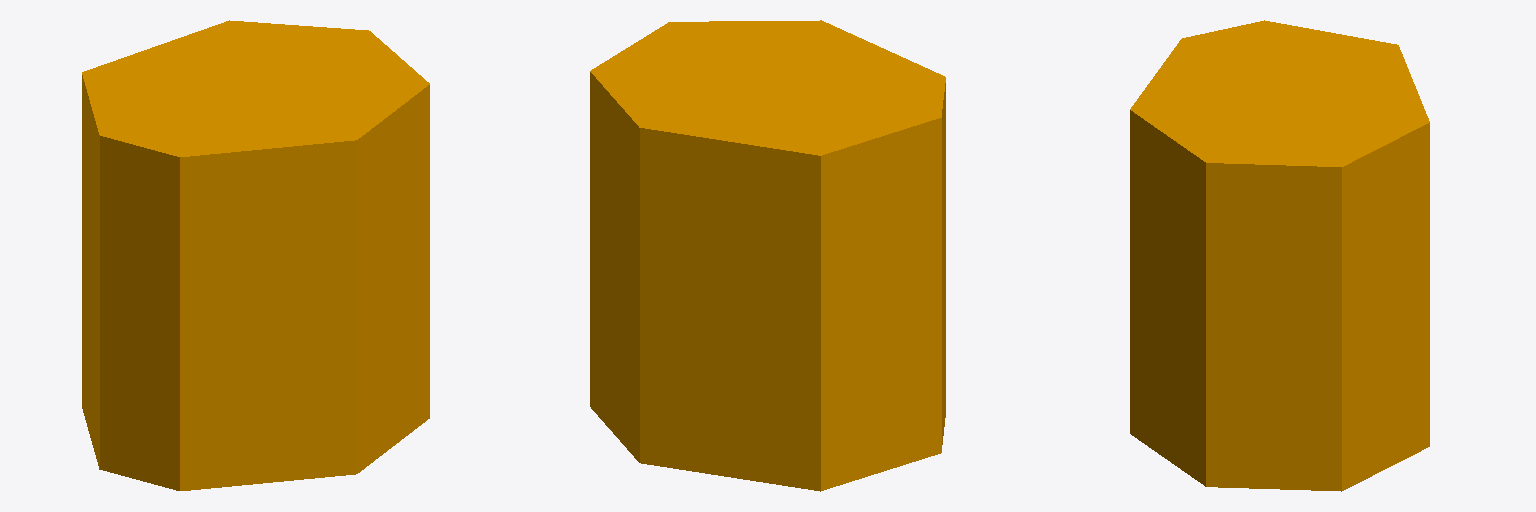
The robot description file, URDF, robot "object":
<?xml version="1.0"?>
<robot name="object">
  <link name="object">
    <visual>
      <origin xyz="0 0 0"/>
      <geometry>
        <mesh filename="meshes/generated/col_066.obj" scale="0.03 0.03 0.03"/>
      </geometry>
    </visual>
    <collision>
      <origin xyz="0 0 0"/>
      <geometry>
        <mesh filename="meshes/generated/col_066.obj" scale="0.03 0.03 0.03"/>
      </geometry>
    </collision>
    <inertial>
      <density value="1000.0"/>
    </inertial>
  </link>
</robot>

--- What the picture shows (computed from the rendered views, not written in the file) ---
3 views of the same robot in one strip: view 1: azimuth 30°, elevation 25°; view 2: azimuth 150°, elevation 25°; view 3: azimuth 270°, elevation 25° (orthographic).
Model object with 1 links and 0 joints (none), rooted at object, posed every joint at zero.
Links seen in each view (by area): view 1: object; view 2: object; view 3: object.
Boxes of the visible links, left/top/right/bottom form: object: left=82, top=20, right=429, bottom=490; object: left=590, top=20, right=945, bottom=491; object: left=1130, top=20, right=1429, bottom=491.
Bounding box of the posed robot: 0.0583 × 0.0504 × 0.06 m (x, y, z).
1 mesh visuals loaded from 1 distinct referenced files (1 OBJ).
